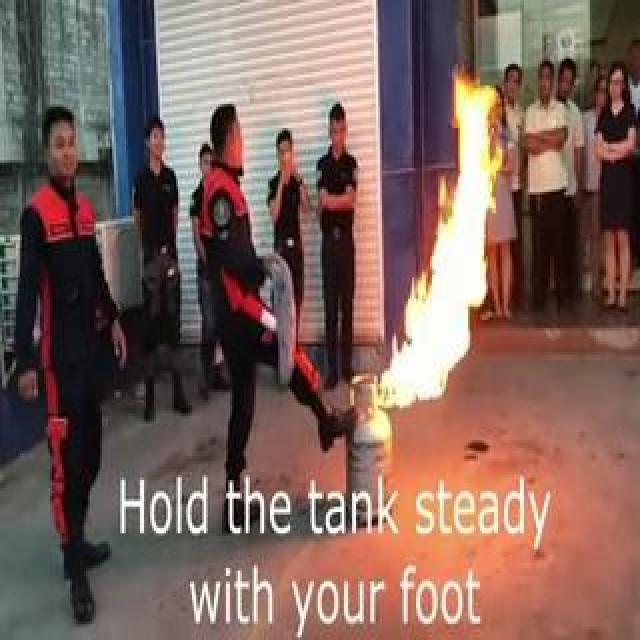Fire: (370, 71, 502, 409)
